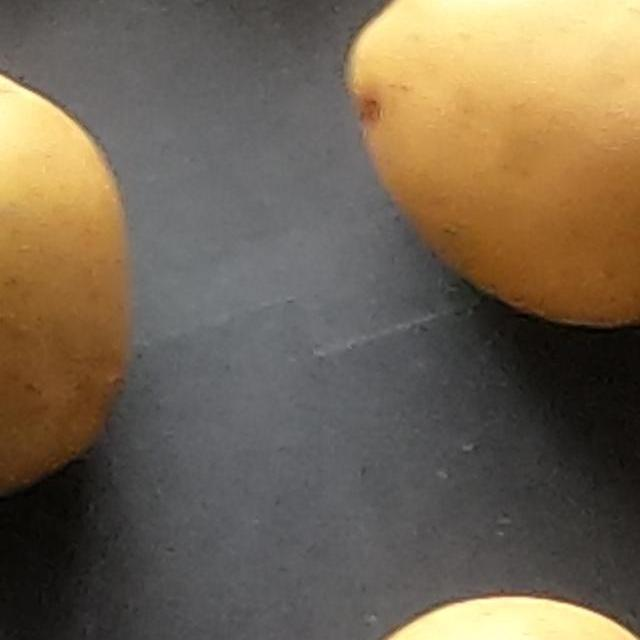potato: (319, 0, 640, 378), (0, 22, 182, 521)
